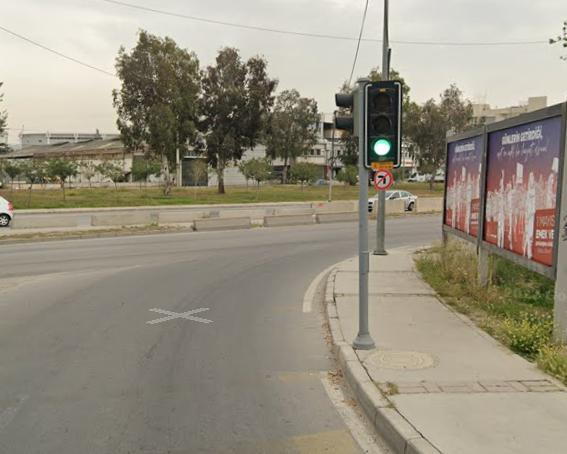greenlight: (368, 83, 399, 158)
leftturnsareforbidden: (376, 170, 393, 187)
